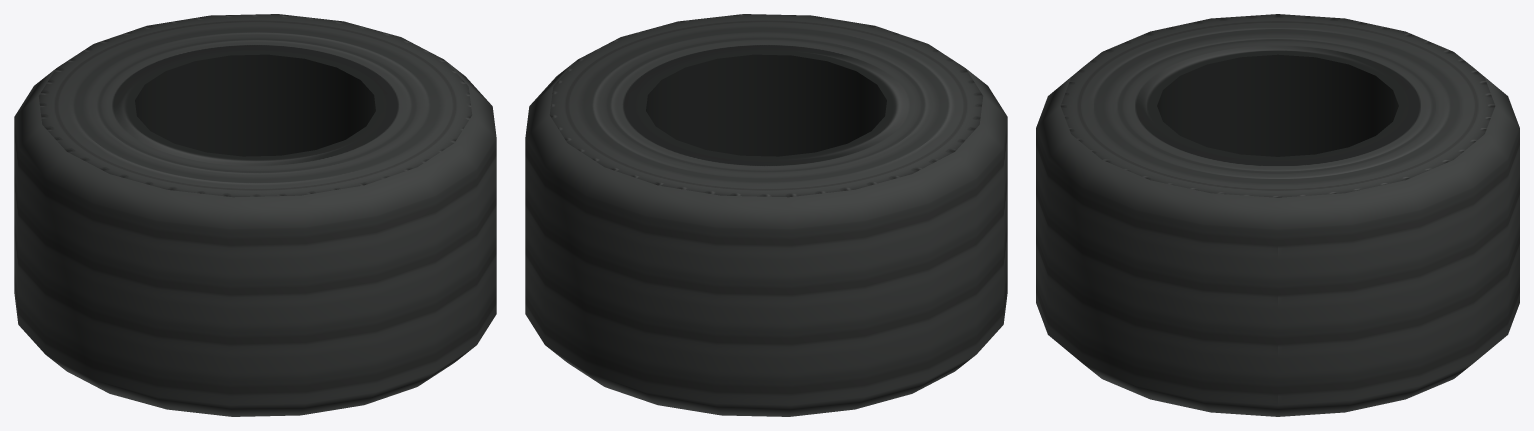
File: Tire.fbx
3 renders of one model, left to right at view 1: azimuth 30°, elevation 25°; view 2: azimuth 150°, elevation 25°; view 3: azimuth 270°, elevation 25°, orthographic.
Parts seen in each view (by area): view 1: pPipe1; view 2: pPipe1; view 3: pPipe1.
Part boxes in pixels (x1,y1,x2,y2): pPipe1: (14,14,496,416); pPipe1: (525,14,1007,416); pPipe1: (1036,14,1519,416).
Size of the model in its own units: 2 by 1 by 2.
